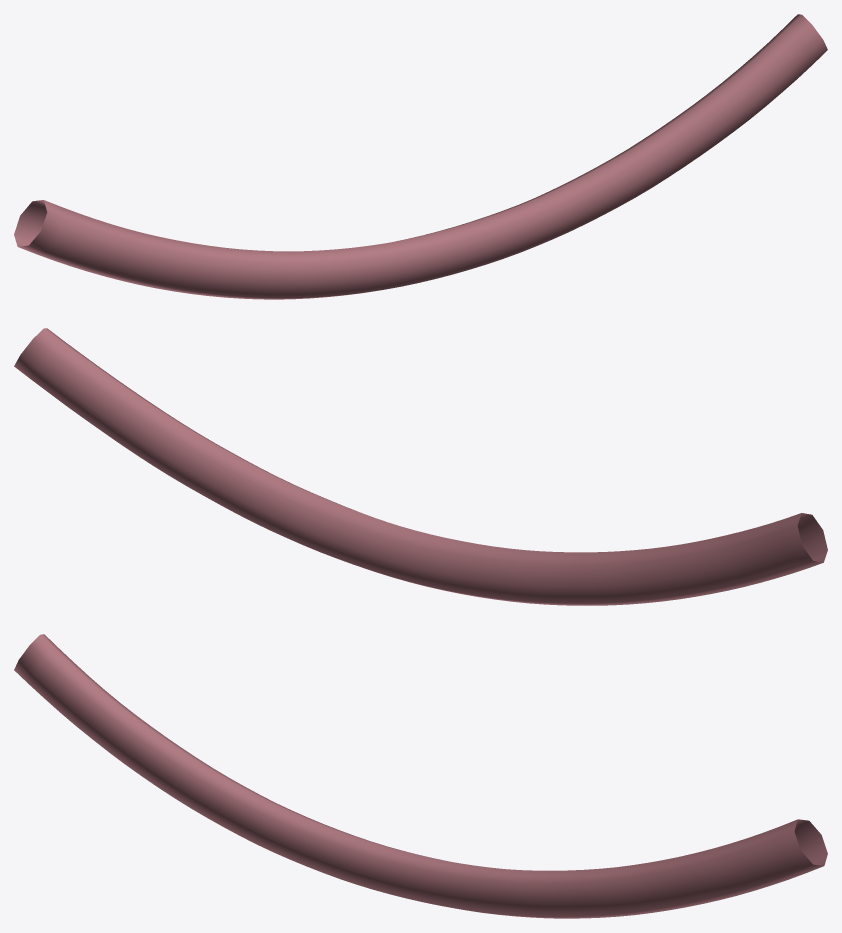
3 views of the same model, one above another, from view 1: azimuth 30°, elevation 25°; view 2: azimuth 150°, elevation 25°; view 3: azimuth 330°, elevation 25° (orthographic).
Visible parts, largest first — view 1: Mouth_Lip; view 2: Mouth_Lip; view 3: Mouth_Lip.
Part boxes in pixels (x1,y1,x2,y2): Mouth_Lip: (14, 14, 827, 299); Mouth_Lip: (14, 328, 827, 605); Mouth_Lip: (14, 634, 827, 918).
Size of the model in its own units: 0.0886 by 0.0178 by 0.00555.
